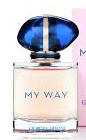armani_my_way_floral: (11, 12, 79, 134)
